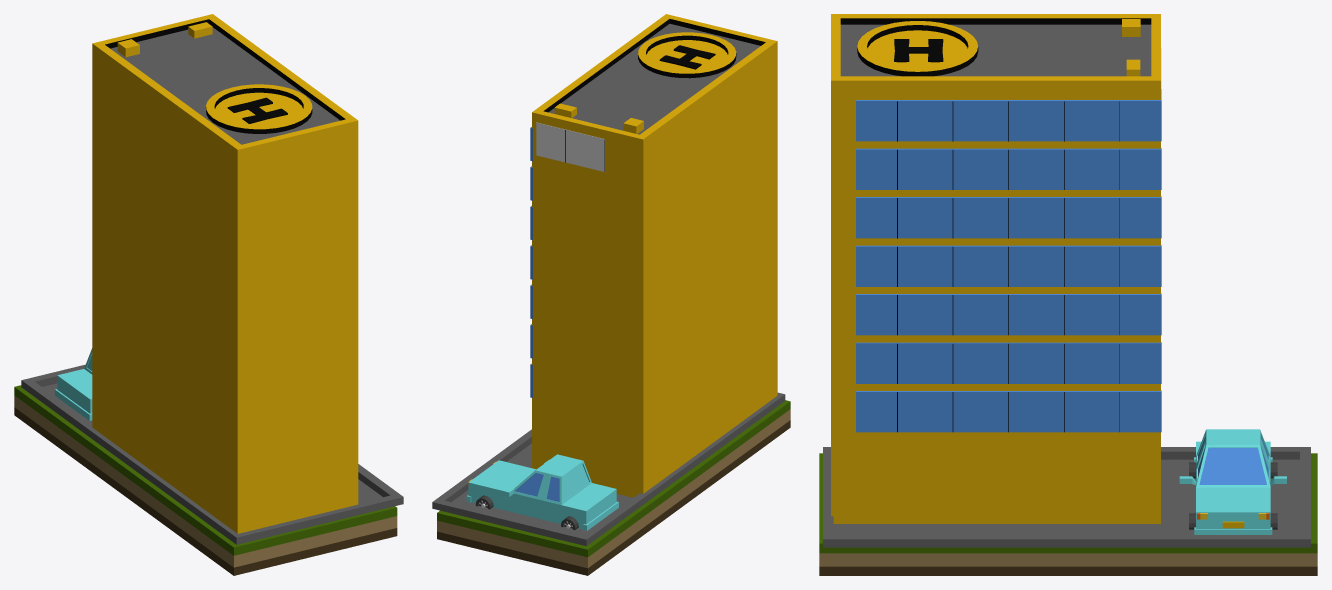
The model's file is company_merge.fbx.
The picture shows the model from 3 angles, left to right: view 1: azimuth 30°, elevation 25°; view 2: azimuth 150°, elevation 25°; view 3: azimuth 270°, elevation 25°; orthographic projection. The views are drawn at different scales.
Visible parts, largest first — view 1: Plane.001; view 2: Plane.001; view 3: Plane.001.
Boxes of the visible parts, x1,y1,x2,y2 form: Plane.001: (14,14,403,575); Plane.001: (432,14,790,575); Plane.001: (819,14,1317,575).
Size of the model in its own units: 205 by 485 by 455.
